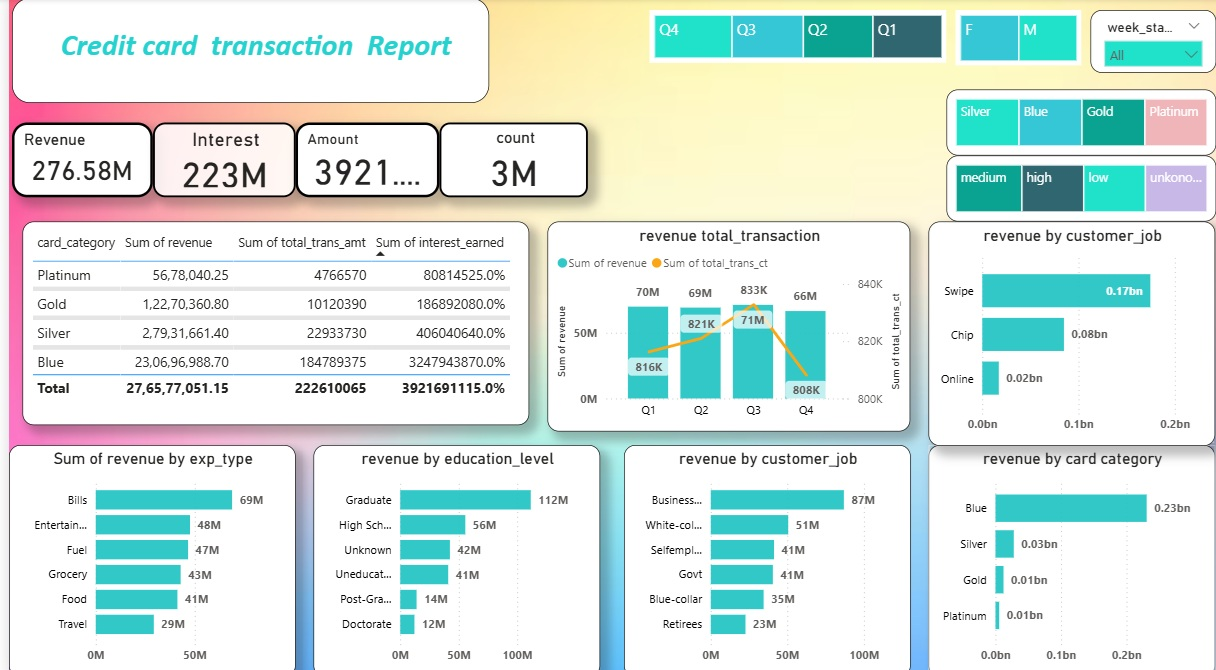

The page's visual inventory and layout, read from the dashboard file:
{"tool":"powerbi","page":{"name":"Page 1","canvas":[1280,720],"ordinal":0},"visuals":[{"type":"textbox","box":[3.2,0,505.8,111.3],"z":0},{"type":"lineStackedColumnComboChart","title":"revenue total_transaction","fields":{"Category":["public cc_detail (2).qtr"],"Y":["Sum(public cc_detail (2).revenue)"],"Y2":["Sum(public cc_detail (2).total_trans_ct)"]},"box":[571,237,384.9,222.7],"z":1000},{"type":"barChart","fields":{"Category":["public cc_detail (2).exp_type"],"Y":["Sum(public cc_detail (2).revenue)"]},"box":[0,474.3,304.3,245.7],"z":2000},{"type":"barChart","title":" revenue by education_level","fields":{"Category":["public cust_detail.education_level"],"Y":["Sum(public cc_detail (2).revenue)"]},"box":[323.2,474.3,304.3,245.7],"z":3000},{"type":"barChart","title":" revenue by customer_job","fields":{"Category":["public cust_detail.customer_job"],"Y":["Sum(public cc_detail (2).revenue)"]},"box":[652,474.3,304.3,245.7],"z":4000},{"type":"barChart","title":" revenue by card category","fields":{"Y":["Sum(public cc_detail (2).revenue)"],"Category":["public cc_detail (2).card_category"]},"box":[975.1,474.3,304.3,245.7],"z":5000},{"type":"barChart","title":" revenue by customer_job","fields":{"Y":["Sum(public cc_detail (2).revenue)"],"Category":["public cc_detail (2).use_chip"]},"box":[975.1,236.2,304.3,238.1],"z":6000},{"type":"tableEx","fields":{"Values":["public cc_detail (2).card_category","Sum(public cc_detail (2).revenue)","Sum(public cc_detail (2).total_trans_amt)","Sum(public cc_detail (2).interest_earned)"]},"box":[14.3,237,537.6,216.3],"z":7000},{"type":"card","title":"Revenue","fields":{"Values":["Sum(public cc_detail (2).revenue)"]},"box":[3.2,132,149.5,79.5],"z":8000},{"type":"card","title":"Interest","fields":{"Values":["Sum(public cc_detail (2).total_trans_amt)"]},"box":[152.7,132,151.1,79.5],"z":9000},{"type":"card","title":"Amount","fields":{"Values":["Sum(public cc_detail (2).interest_earned)"]},"box":[303.8,132,152.7,79.5],"z":10000},{"type":"card","title":"count","fields":{"Values":["Sum(public cc_detail (2).total_trans_ct)"]},"box":[456.5,132,157.5,79.5],"z":11000},{"type":"slicer","fields":{"Values":["public cc_detail (2).week_start_date"]},"box":[1146.8,12.7,133.6,66.8],"z":12000},{"type":"treemap","fields":{"Group":["public cc_detail (2).qtr"],"Values":["Avg(public cc_detail (2).client_num)"]},"box":[679.2,12.7,314.9,55.7],"z":13000},{"type":"treemap","fields":{"Group":["public cust_detail.gender"],"Values":["Avg(public cc_detail (2).client_num)"]},"box":[1003.7,12.7,133.6,58.9],"z":14000},{"type":"treemap","fields":{"Values":["Avg(public cc_detail (2).client_num)"],"Group":["public cc_detail (2).card_category"]},"box":[994.1,97,286.3,70],"z":15000},{"type":"treemap","fields":{"Group":["public cust_detail.incomegroup"],"Values":["Avg(public cc_detail (2).client_num)"]},"box":[994.1,167,286.3,70],"z":16000}]}

Visuals, with their boxes in screenshot pixels (x1, y1, x2, y2), scaled from the page's 1280x720 canvas onto the 1216x670 screenshot:
textbox: <bbox>3, 0, 484, 104</bbox>
"revenue total_transaction" lineStackedColumnComboChart: <bbox>542, 221, 908, 428</bbox>
barChart - public cc_detail (2).exp_type x Sum(public cc_detail (2).revenue): <bbox>0, 441, 289, 669</bbox>
" revenue by education_level" barChart: <bbox>307, 441, 596, 669</bbox>
" revenue by customer_job" barChart: <bbox>619, 441, 908, 669</bbox>
" revenue by card category" barChart: <bbox>926, 441, 1215, 669</bbox>
" revenue by customer_job" barChart: <bbox>926, 220, 1215, 441</bbox>
tableEx - public cc_detail (2).card_category x Sum(public cc_detail (2).revenue): <bbox>14, 221, 524, 422</bbox>
"Revenue" card: <bbox>3, 123, 145, 197</bbox>
"Interest" card: <bbox>145, 123, 289, 197</bbox>
"Amount" card: <bbox>289, 123, 434, 197</bbox>
"count" card: <bbox>434, 123, 583, 197</bbox>
slicer - public cc_detail (2).week_start_date: <bbox>1089, 12, 1215, 74</bbox>
treemap - public cc_detail (2).qtr x Avg(public cc_detail (2).client_num): <bbox>645, 12, 944, 64</bbox>
treemap - public cust_detail.gender x Avg(public cc_detail (2).client_num): <bbox>954, 12, 1080, 67</bbox>
treemap - Avg(public cc_detail (2).client_num) x public cc_detail (2).card_category: <bbox>944, 90, 1215, 155</bbox>
treemap - public cust_detail.incomegroup x Avg(public cc_detail (2).client_num): <bbox>944, 155, 1215, 221</bbox>
